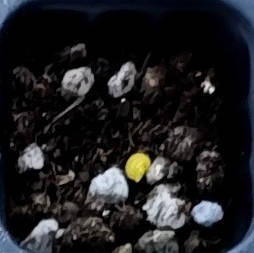pepper seed: (49, 59, 202, 243)
